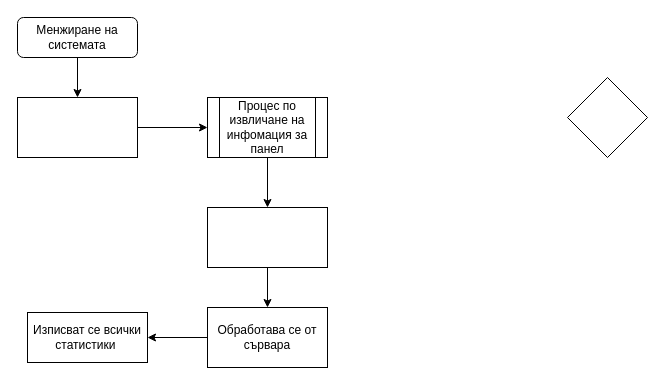
The diagram is 665 pixels wide and 385 high, and some of its shapes have lost their labels. Here are the shapes that lost their labels. From the top down, the centre of each, then its label:
[77,127]: Зареждане на административен панел
[267,237]: Извикава се конкретния url
